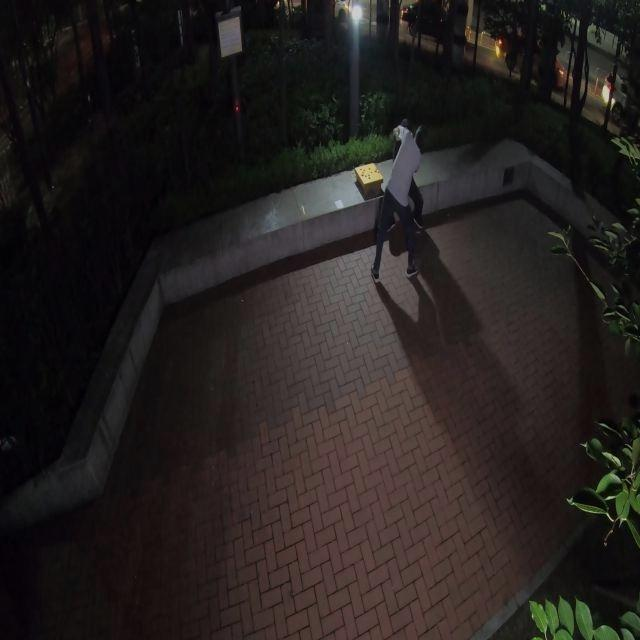fight: (371, 116, 435, 282)
